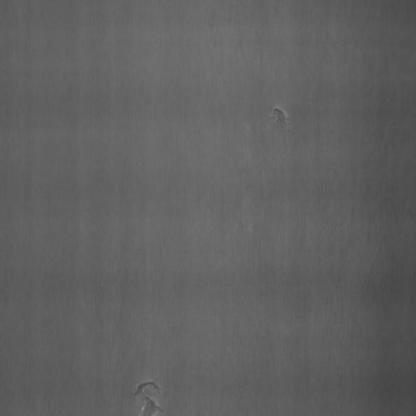rolled_pit: (126, 366, 165, 415), (264, 100, 294, 133)
